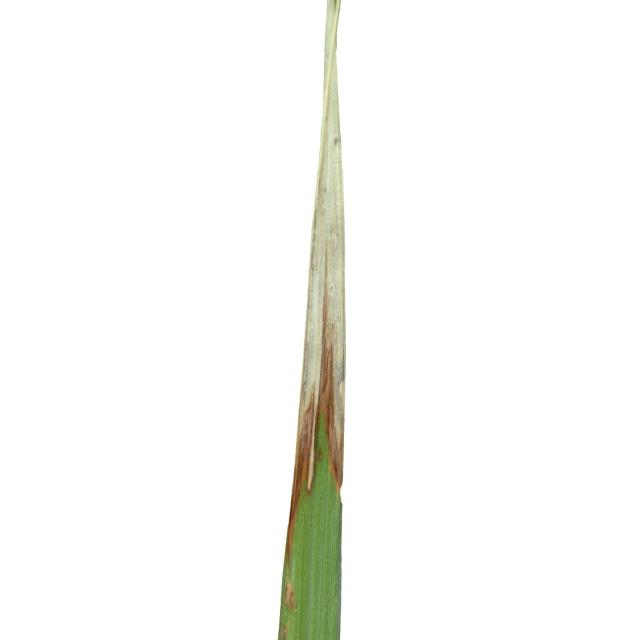Leaf scald: (198, 0, 490, 640)
